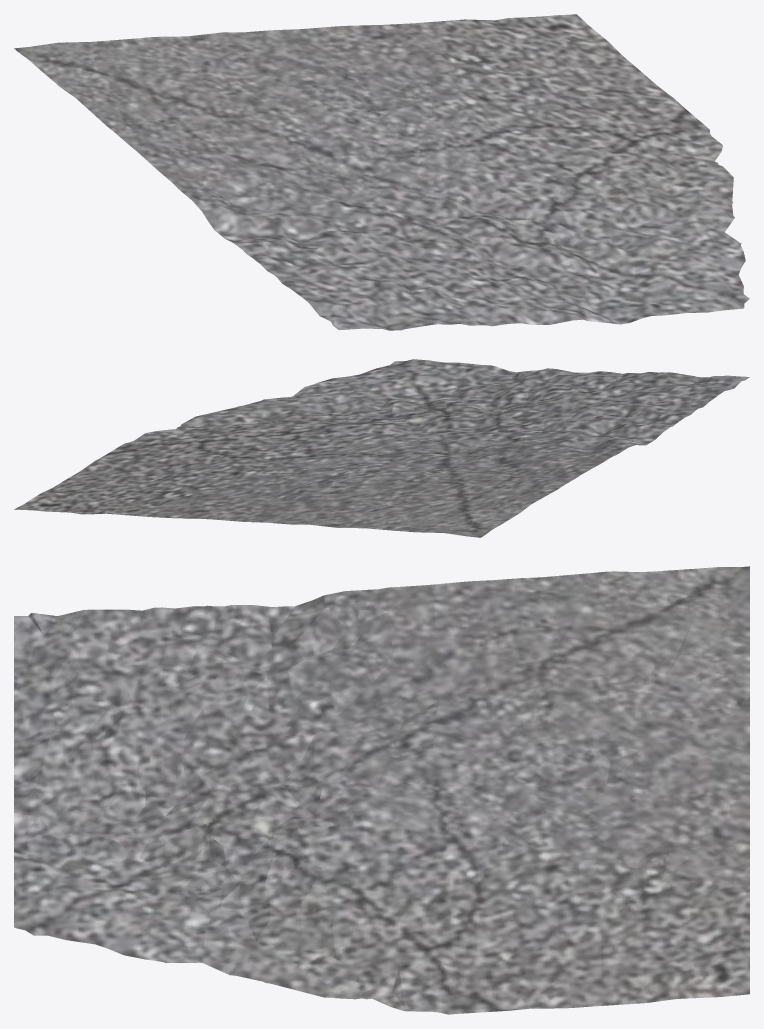
The picture shows the model from 3 angles, top to bottom: view 1: azimuth 30°, elevation 25°; view 2: azimuth 150°, elevation 25°; view 3: azimuth 270°, elevation 25°; orthographic projection. The views are drawn at different scales.
Size of the model in its own units: 0.8373 by 0.1723 by 0.8374.
2 materials, 2 textured.
